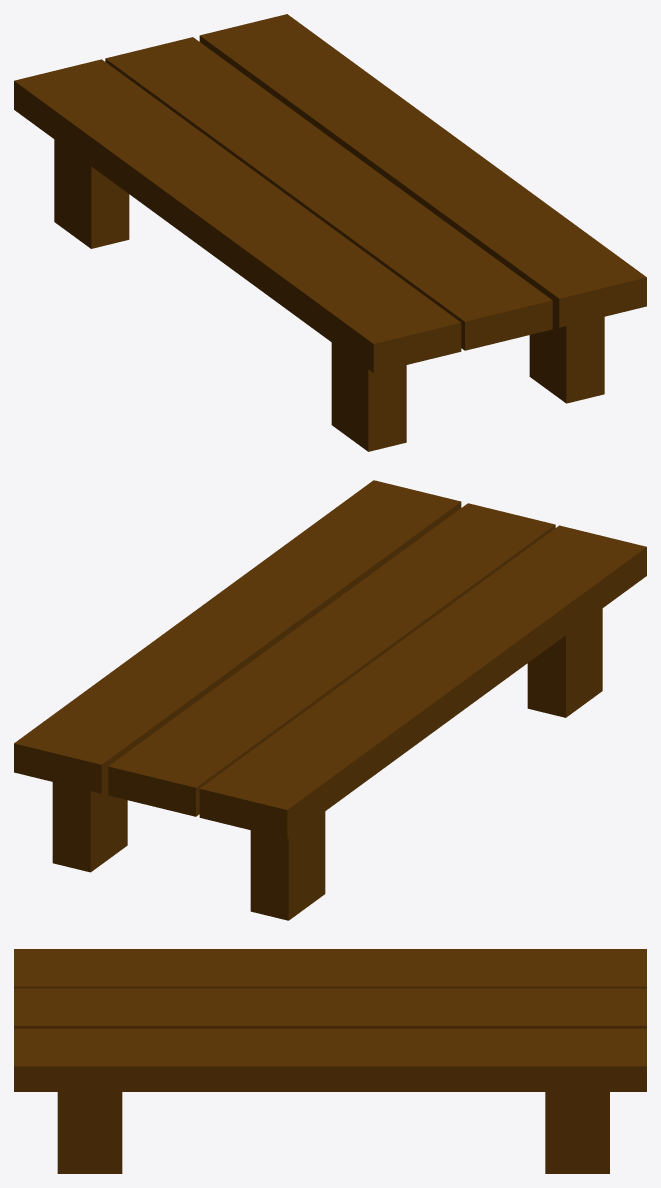
The model's file is Bench2.fbx.
3 views of the same model, one above another, from view 1: azimuth 30°, elevation 25°; view 2: azimuth 150°, elevation 25°; view 3: azimuth 270°, elevation 25° (orthographic). The views are drawn at different scales.
Parts seen in each view (by area): view 1: Bench2; view 2: Bench2; view 3: Bench2.
Boxes of the visible parts, x1,y1,x2,y2 form: Bench2: (14,14,646,451); Bench2: (14,480,646,920); Bench2: (14,949,646,1173).
Size of the model in its own units: 65.14 by 29.79 by 148.
